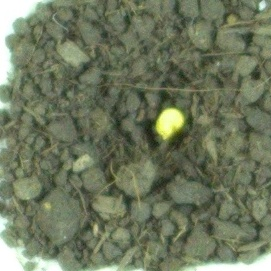chilli seed: (153, 107, 185, 141)
